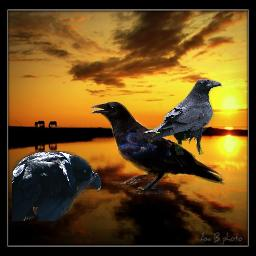Crow: (91, 101, 225, 194), (12, 151, 102, 221), (143, 79, 222, 155)
